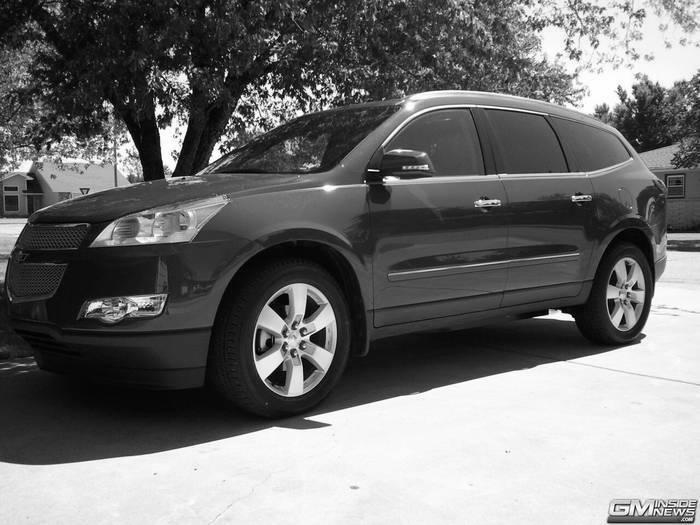car: (12, 84, 672, 421)
